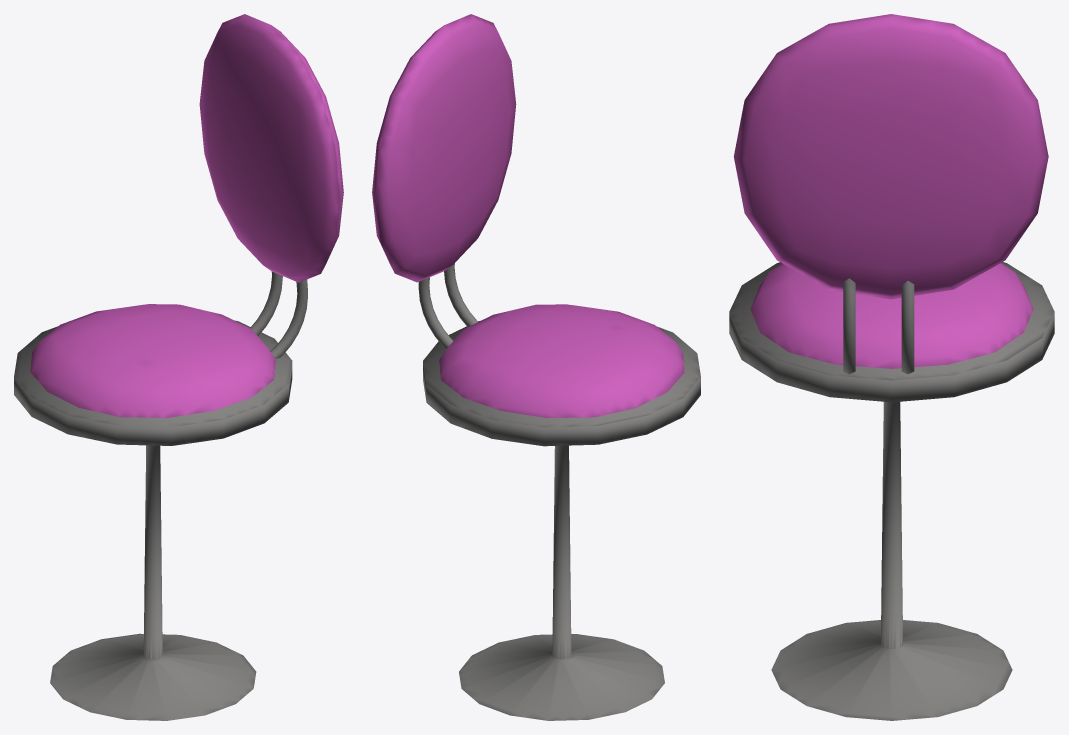
File: Chair.glb
3 views of the same model, side by side, from view 1: azimuth 30°, elevation 25°; view 2: azimuth 150°, elevation 25°; view 3: azimuth 270°, elevation 25° (orthographic). The views are drawn at different scales.
Parts seen in each view (by area): view 1: chair; view 2: chair; view 3: chair.
Boxes of the visible parts, x1,y1,x2,y2 form: chair: (14, 14, 343, 720); chair: (372, 14, 700, 720); chair: (729, 14, 1054, 720).
Bounding box in the file's own units: 1.54 × 3.51 × 1.43.
1 material, 1 textured.
